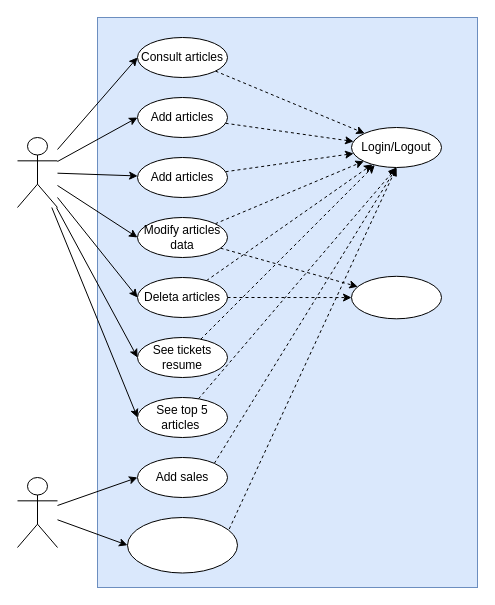
This 495x605 diagram has some shape labels left out. The shapes that lost their labels are listed below. From the top down, each one's centre as x and y in pixels, then its label:
At [37,172]: "Admin".
At [396,297]: "Available article".
At [37,512]: "Cashier".
At [182,544]: "Manage complete/partial returns".
